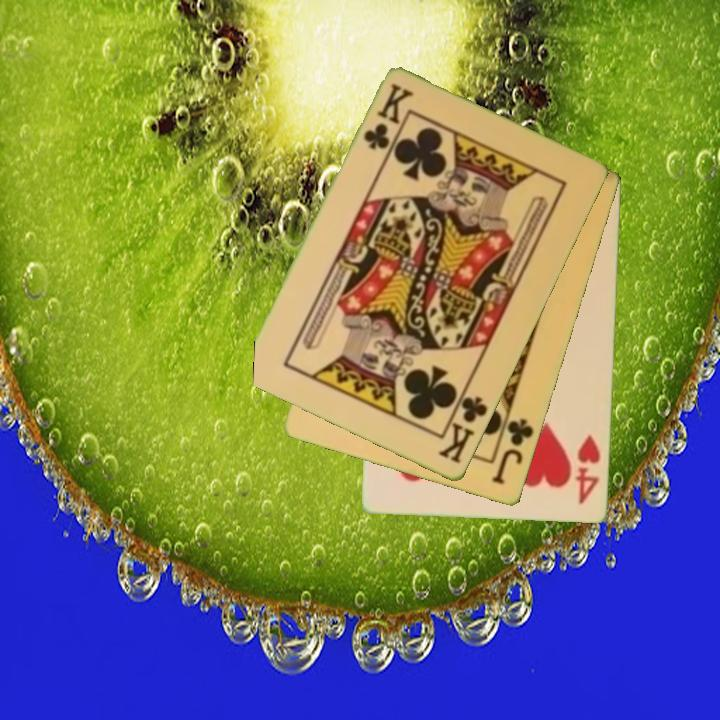4h: (572, 431, 604, 508)
Jc: (489, 408, 537, 488)
Kc: (434, 384, 491, 467), (360, 80, 415, 154)
